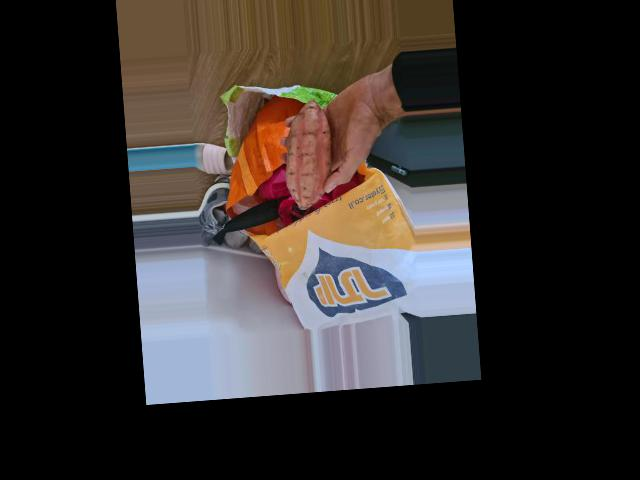sweet_potato: (281, 99, 338, 210)
